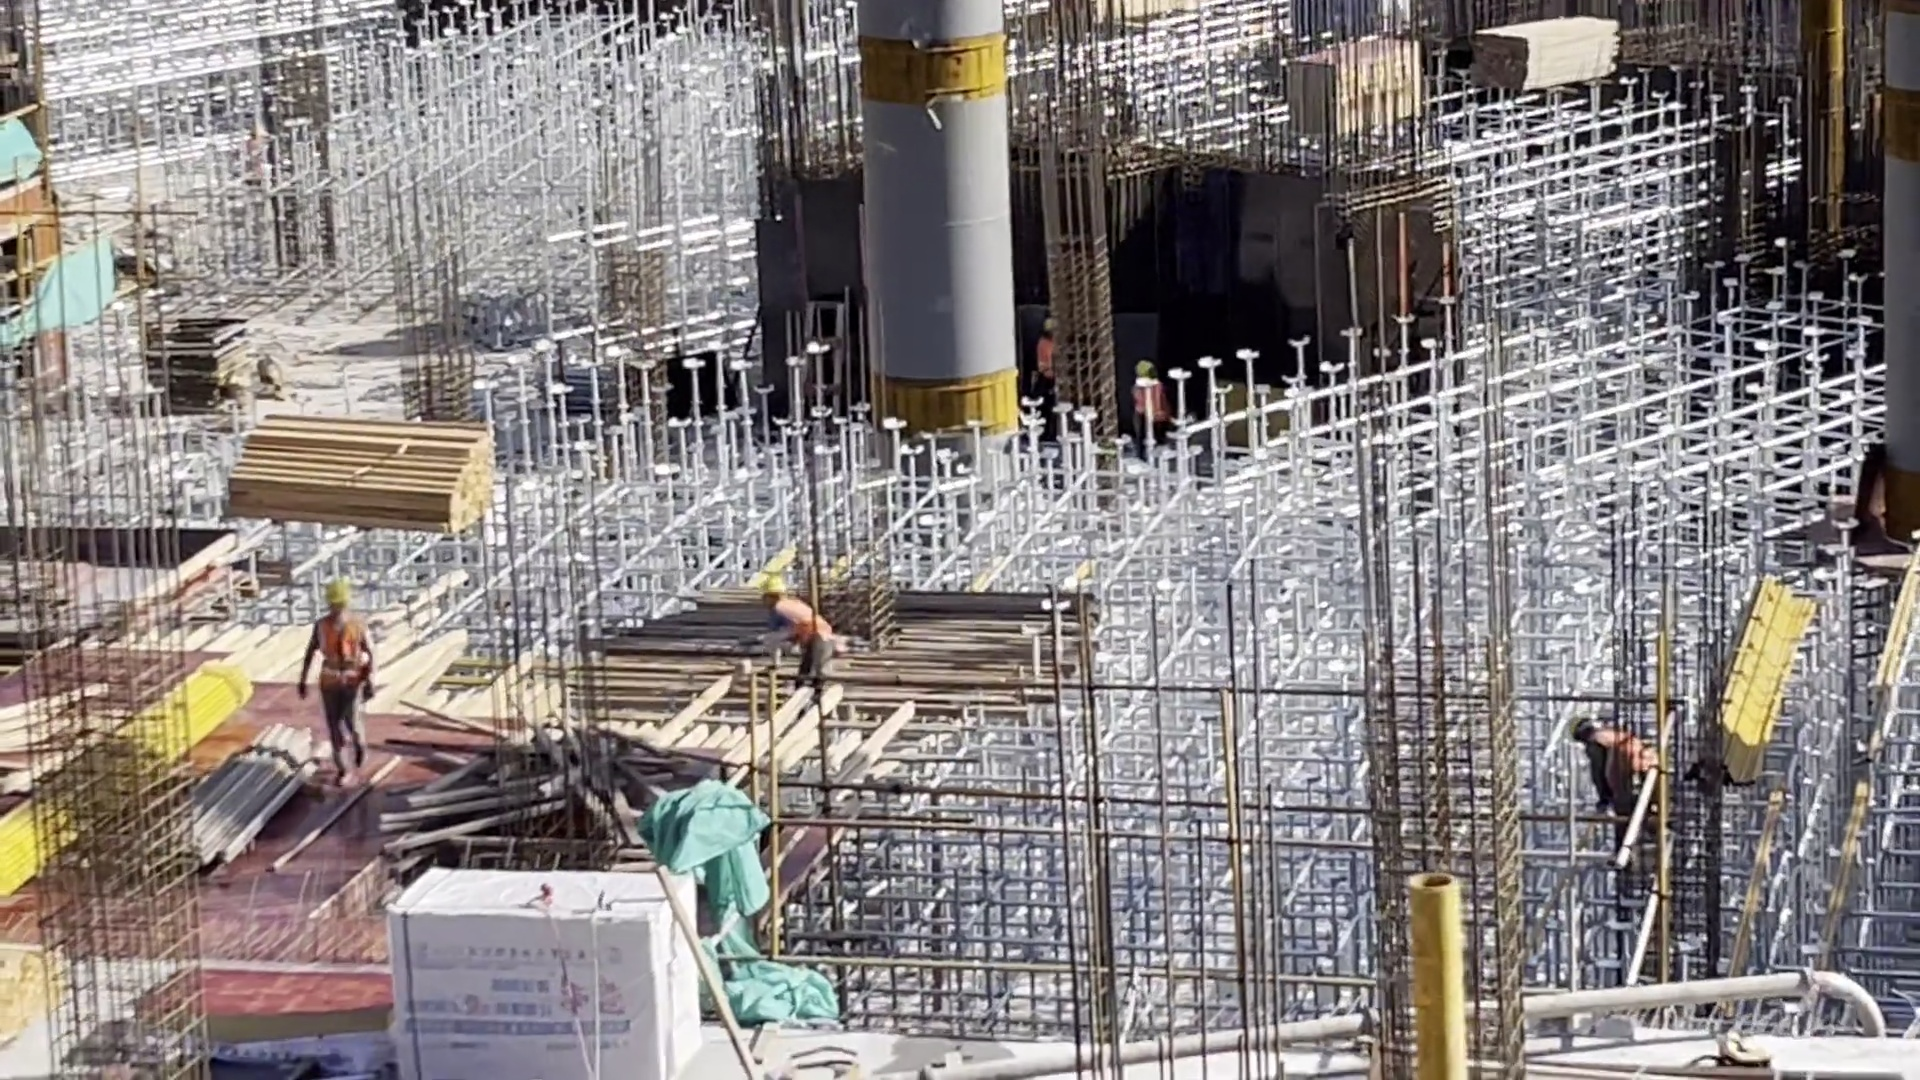helmet: (756, 574, 798, 610), (321, 578, 355, 618)
person: (293, 581, 379, 778), (1563, 704, 1661, 845), (762, 569, 841, 708), (1133, 356, 1173, 471), (1038, 307, 1069, 433)
vest: (309, 616, 372, 714), (779, 595, 842, 669), (1034, 336, 1070, 403), (1131, 378, 1171, 434)
